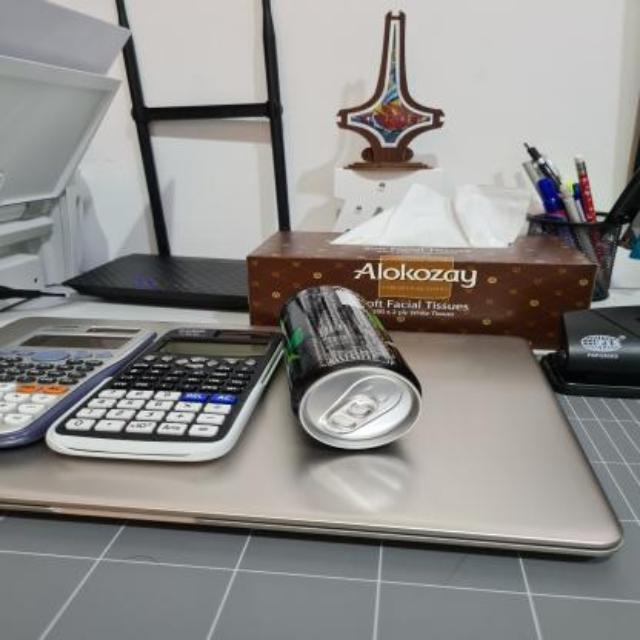metal: (282, 285, 418, 449)
